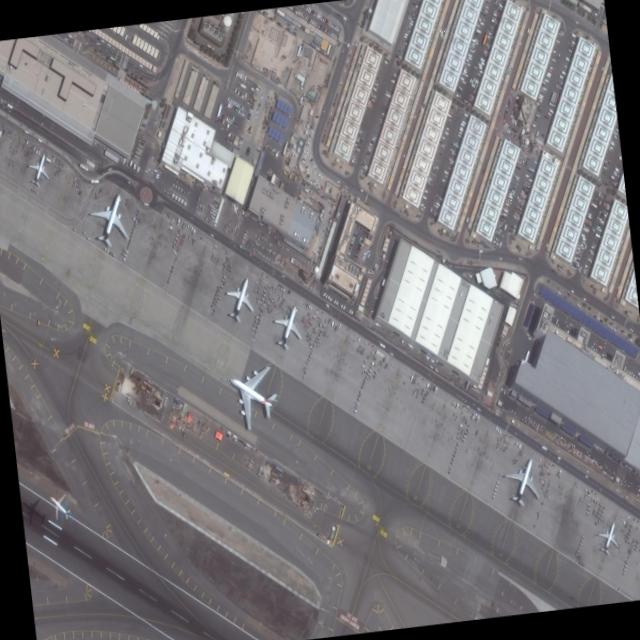large-vehicle: (548, 90, 555, 107), (552, 92, 559, 108), (550, 91, 557, 107), (281, 141, 288, 157), (216, 102, 223, 118), (482, 30, 488, 46), (79, 163, 88, 172), (540, 445, 548, 451), (239, 83, 246, 89), (461, 71, 468, 77), (384, 92, 391, 98), (475, 28, 481, 34), (595, 233, 601, 239), (555, 84, 561, 90), (7, 103, 13, 109), (90, 179, 99, 183), (407, 343, 413, 349), (379, 342, 385, 348), (374, 322, 381, 327), (533, 292, 538, 299), (225, 122, 229, 130), (243, 74, 247, 82), (599, 219, 604, 225), (582, 227, 588, 232), (565, 56, 570, 62), (448, 157, 454, 162), (168, 225, 174, 230), (385, 90, 391, 95), (110, 56, 115, 61), (68, 33, 73, 38), (586, 214, 591, 219), (545, 73, 550, 78), (538, 93, 543, 98), (444, 170, 449, 175), (507, 194, 512, 199), (581, 236, 586, 241), (610, 314, 615, 319), (571, 33, 576, 38), (559, 74, 564, 79), (422, 194, 427, 199), (457, 133, 462, 138), (556, 455, 561, 460), (425, 355, 430, 360), (235, 71, 239, 77), (503, 224, 507, 230), (348, 308, 352, 314), (227, 100, 230, 107), (239, 72, 242, 79), (244, 92, 247, 99), (527, 27, 530, 34), (498, 241, 501, 248), (192, 228, 195, 235), (177, 218, 180, 225), (440, 30, 443, 37), (138, 63, 143, 67), (227, 132, 231, 137), (547, 68, 552, 72), (544, 78, 548, 83), (503, 209, 508, 213), (541, 86, 546, 90), (580, 233, 585, 237), (555, 39, 560, 43), (567, 48, 572, 52), (571, 40, 576, 44), (549, 109, 554, 113), (436, 201, 440, 206), (459, 127, 463, 132), (460, 123, 465, 127), (461, 120, 466, 124), (464, 113, 469, 117), (444, 130, 448, 135), (372, 86, 376, 91), (390, 79, 395, 83), (478, 65, 483, 69), (478, 62, 482, 67), (467, 53, 472, 57), (469, 48, 473, 53), (471, 41, 476, 45), (488, 31, 492, 36), (493, 12, 497, 17), (461, 79, 465, 84), (458, 86, 463, 90), (479, 21, 484, 25), (342, 305, 346, 310), (304, 188, 309, 192), (300, 159, 305, 163), (237, 71, 240, 77), (336, 212, 339, 218), (124, 34, 127, 40), (307, 135, 310, 141), (250, 87, 254, 91), (257, 85, 261, 89), (549, 65, 553, 69), (547, 71, 551, 75), (505, 202, 509, 206), (502, 212, 506, 216), (629, 328, 633, 332), (508, 65, 512, 69), (551, 58, 555, 62), (558, 80, 562, 84), (562, 71, 566, 75), (359, 188, 363, 192), (420, 207, 424, 211), (424, 189, 428, 193), (445, 127, 449, 131), (372, 135, 376, 139), (393, 73, 397, 77), (343, 16, 347, 20), (460, 76, 464, 80), (481, 61, 485, 65), (480, 58, 484, 62), (466, 62, 470, 66), (466, 58, 470, 62), (468, 56, 472, 60), (474, 38, 478, 42), (471, 38, 475, 42), (479, 70, 483, 74), (476, 407, 480, 411), (495, 412, 499, 416), (322, 292, 326, 296), (305, 168, 309, 172), (429, 365, 433, 369), (342, 211, 345, 216), (466, 217, 469, 222), (346, 42, 349, 47), (333, 299, 336, 304), (306, 139, 309, 144), (435, 368, 438, 373), (538, 96, 542, 99), (538, 99, 542, 102), (571, 289, 574, 293), (548, 112, 551, 116), (582, 297, 586, 300), (492, 240, 496, 243), (93, 140, 96, 144), (441, 136, 445, 139), (372, 137, 375, 141), (415, 4, 418, 8), (409, 22, 413, 25), (487, 35, 490, 39), (455, 94, 459, 97), (329, 297, 332, 301), (327, 295, 330, 299), (325, 294, 328, 298), (431, 359, 434, 363), (227, 96, 229, 101), (439, 29, 441, 34), (441, 34, 443, 39), (477, 250, 482, 252), (256, 87, 259, 90), (357, 148, 360, 151), (410, 20, 413, 23), (519, 41, 521, 45), (404, 33, 408, 35)
plane: (218, 344, 285, 440), (82, 181, 141, 257), (498, 444, 550, 515), (267, 296, 310, 356), (219, 269, 262, 328), (43, 483, 76, 528), (23, 146, 55, 190), (594, 515, 624, 558), (231, 202, 239, 214)
small-vehicle: (209, 232, 214, 237), (624, 493, 628, 499), (601, 193, 604, 200), (535, 101, 539, 106), (587, 212, 592, 216), (501, 333, 505, 338), (516, 422, 520, 427), (349, 161, 353, 166), (311, 19, 314, 25), (374, 82, 378, 86), (367, 145, 371, 149), (350, 239, 354, 243), (352, 233, 356, 237), (312, 165, 316, 169), (269, 16, 273, 20), (107, 43, 111, 47), (126, 73, 130, 77), (95, 57, 99, 61), (508, 198, 512, 202), (560, 31, 564, 35), (575, 20, 579, 24), (517, 164, 521, 168), (531, 168, 535, 172), (533, 160, 537, 164), (356, 196, 360, 200), (589, 248, 593, 252), (582, 240, 586, 244), (579, 248, 583, 252), (576, 246, 580, 250), (575, 260, 579, 264), (576, 263, 580, 267), (613, 172, 617, 176), (613, 131, 617, 135), (609, 325, 613, 329), (577, 303, 581, 307), (195, 68, 199, 72), (447, 118, 451, 122), (450, 148, 454, 152), (435, 165, 439, 169), (378, 117, 382, 121), (528, 337, 532, 341), (494, 6, 498, 10), (281, 274, 285, 278), (339, 79, 342, 84), (343, 67, 346, 72), (346, 58, 349, 63), (355, 41, 358, 46), (353, 40, 356, 45), (304, 5, 307, 10), (307, 6, 310, 11), (312, 121, 315, 126), (295, 9, 298, 14), (300, 12, 303, 17), (303, 14, 306, 19), (306, 16, 309, 21), (307, 17, 310, 22), (309, 18, 312, 23), (314, 21, 317, 26), (324, 28, 327, 33), (297, 10, 300, 15), (316, 13, 319, 18), (319, 14, 322, 19), (323, 17, 326, 22), (328, 20, 331, 25), (331, 23, 334, 28), (327, 30, 330, 35), (239, 92, 242, 97), (239, 110, 242, 115), (241, 111, 244, 116), (229, 119, 232, 124), (235, 123, 238, 128), (333, 34, 336, 39), (504, 111, 507, 116), (506, 104, 509, 109), (504, 122, 507, 127), (515, 181, 518, 186), (584, 243, 587, 248), (578, 252, 581, 257), (592, 227, 595, 232), (598, 192, 601, 197), (545, 243, 548, 248), (173, 250, 176, 255), (33, 145, 36, 150), (443, 27, 446, 32), (347, 54, 350, 58), (337, 13, 340, 17), (310, 9, 313, 13), (335, 93, 338, 97), (310, 125, 313, 129), (325, 125, 328, 129), (329, 112, 332, 116), (332, 102, 335, 106), (313, 11, 316, 15), (291, 6, 294, 10), (329, 22, 332, 26), (332, 24, 335, 28), (335, 26, 338, 30), (348, 247, 352, 250), (373, 266, 376, 270), (371, 269, 374, 273), (367, 253, 370, 257), (369, 310, 373, 313), (374, 265, 377, 269), (367, 150, 371, 153), (347, 251, 350, 255), (357, 243, 361, 246), (367, 148, 371, 151), (306, 173, 309, 177), (307, 174, 310, 178), (308, 176, 311, 180), (302, 155, 305, 159), (303, 153, 306, 157), (363, 159, 366, 163), (352, 157, 355, 161), (360, 169, 363, 173), (364, 166, 367, 170), (364, 164, 367, 168), (358, 145, 361, 149), (355, 143, 358, 147), (356, 137, 360, 140), (360, 136, 363, 140), (358, 130, 362, 133), (353, 155, 356, 159), (206, 76, 210, 79), (273, 148, 276, 152), (247, 128, 250, 132), (141, 92, 144, 96), (145, 90, 149, 93), (290, 25, 294, 28), (293, 31, 296, 35), (289, 29, 292, 33), (283, 24, 286, 28), (278, 21, 281, 25), (138, 80, 141, 84), (111, 45, 114, 49), (99, 50, 103, 53), (84, 42, 88, 45), (116, 70, 119, 74), (126, 76, 129, 80), (104, 62, 107, 66), (99, 60, 103, 63), (91, 55, 95, 58), (512, 129, 516, 132), (509, 126, 512, 130), (507, 125, 510, 129), (506, 124, 509, 128), (502, 116, 505, 120), (505, 107, 508, 111), (507, 103, 510, 107), (507, 100, 510, 104), (508, 97, 511, 101), (511, 127, 514, 131), (513, 103, 517, 106), (509, 131, 512, 135), (542, 80, 545, 84), (516, 195, 519, 199), (512, 228, 516, 231), (511, 231, 515, 234), (511, 191, 514, 195), (524, 180, 527, 184), (511, 189, 515, 192), (509, 185, 512, 189), (517, 160, 521, 163), (519, 158, 522, 162), (518, 156, 522, 159), (528, 166, 531, 170), (597, 225, 600, 229), (577, 244, 581, 247), (575, 251, 579, 254), (577, 256, 580, 260), (583, 268, 587, 271), (601, 66, 604, 70), (613, 170, 616, 174), (602, 171, 605, 175), (603, 166, 607, 169), (610, 140, 614, 143), (587, 268, 590, 272), (578, 268, 581, 272), (613, 328, 616, 332), (599, 319, 603, 322), (606, 323, 609, 327), (593, 314, 596, 318), (526, 333, 530, 336), (257, 146, 260, 150), (408, 24, 411, 28), (449, 110, 453, 113), (435, 158, 438, 162), (408, 16, 412, 19), (411, 6, 414, 10), (558, 290, 561, 294), (518, 257, 522, 260), (498, 257, 502, 260), (507, 70, 510, 74), (477, 23, 480, 27), (481, 18, 485, 21), (485, 2, 489, 5), (481, 7, 485, 10), (433, 173, 436, 177), (429, 171, 433, 174), (349, 49, 351, 54), (352, 40, 354, 45), (303, 4, 305, 9), (331, 107, 333, 112), (309, 8, 311, 13), (312, 9, 314, 14), (299, 11, 301, 16), (302, 13, 304, 18), (305, 15, 307, 20), (323, 27, 325, 32), (294, 8, 296, 13), (318, 13, 320, 18), (321, 16, 323, 21), (325, 18, 327, 23), (337, 27, 339, 32), (372, 267, 374, 272), (310, 178, 312, 183), (315, 179, 317, 184), (326, 29, 328, 34), (329, 31, 331, 36), (226, 116, 228, 121), (238, 109, 240, 114), (224, 115, 226, 120), (227, 118, 229, 123), (264, 11, 266, 16), (222, 119, 224, 124), (237, 90, 239, 95), (242, 93, 244, 98), (232, 99, 234, 104), (332, 33, 334, 38), (74, 176, 76, 181), (38, 150, 40, 155), (403, 152, 405, 157), (580, 265, 582, 270), (414, 113, 416, 118), (339, 323, 341, 328), (309, 128, 312, 131), (299, 131, 302, 134), (305, 143, 308, 146), (375, 263, 378, 266), (365, 251, 368, 254), (390, 352, 393, 355), (371, 140, 374, 143), (360, 237, 363, 240), (359, 241, 362, 244), (356, 249, 359, 252), (349, 245, 352, 248), (350, 241, 353, 244), (351, 237, 354, 240), (352, 235, 355, 238), (353, 231, 356, 234), (354, 230, 357, 233), (357, 247, 360, 250), (357, 245, 360, 248), (365, 154, 368, 157), (304, 164, 307, 167), (311, 164, 314, 167), (337, 180, 340, 183), (361, 163, 364, 166), (361, 165, 364, 168), (355, 141, 358, 144), (359, 141, 362, 144), (359, 139, 362, 142), (356, 139, 359, 142), (246, 119, 249, 122), (247, 117, 250, 120), (247, 114, 250, 117), (248, 111, 251, 114), (249, 109, 252, 112), (250, 106, 253, 109), (251, 104, 254, 107), (251, 102, 254, 105), (252, 99, 255, 102), (213, 81, 216, 84), (239, 141, 242, 144), (240, 139, 243, 142), (151, 156, 154, 159), (147, 168, 150, 171), (145, 170, 148, 173), (149, 97, 152, 100), (145, 95, 148, 98), (133, 86, 136, 89), (138, 85, 141, 88), (134, 82, 137, 85), (294, 27, 297, 30), (287, 22, 290, 25), (286, 27, 289, 30), (97, 37, 100, 40), (130, 80, 133, 83), (145, 86, 148, 89), (141, 83, 144, 86), (101, 39, 104, 42), (96, 42, 99, 45), (134, 78, 137, 81), (130, 76, 133, 79), (116, 66, 119, 69), (113, 64, 116, 67), (112, 68, 115, 71), (69, 40, 72, 43), (108, 66, 111, 69), (64, 37, 67, 40), (348, 249, 351, 252), (506, 129, 509, 132), (514, 130, 517, 133), (536, 114, 539, 117), (511, 133, 514, 136), (507, 130, 510, 133), (534, 118, 537, 121), (499, 229, 502, 232), (513, 224, 516, 227), (516, 175, 519, 178), (564, 65, 567, 68), (514, 184, 517, 187), (581, 246, 584, 249), (573, 258, 576, 261), (573, 262, 576, 265), (573, 264, 576, 267), (603, 163, 606, 166), (604, 160, 607, 163), (583, 271, 586, 274), (573, 267, 576, 270), (570, 266, 573, 269), (629, 338, 632, 341), (625, 336, 628, 339), (596, 317, 599, 320), (589, 313, 592, 316), (192, 66, 195, 69), (399, 55, 402, 58), (443, 143, 446, 146), (441, 144, 444, 147), (445, 174, 448, 177), (423, 205, 426, 208), (421, 202, 424, 205), (381, 112, 384, 115), (316, 507, 319, 510), (564, 295, 567, 298), (508, 68, 511, 71), (485, 5, 488, 8), (338, 84, 340, 88), (342, 72, 344, 76), (306, 6, 308, 10), (337, 89, 339, 93), (321, 139, 323, 143), (323, 134, 325, 138), (324, 129, 326, 133), (334, 98, 336, 102), (313, 21, 315, 25), (316, 23, 318, 27), (318, 24, 320, 28), (322, 17, 324, 21), (327, 20, 329, 24), (334, 25, 336, 29), (309, 134, 311, 138), (369, 269, 371, 273), (366, 250, 370, 252), (309, 154, 311, 158), (313, 170, 315, 174), (314, 167, 316, 171), (243, 112, 245, 116), (236, 90, 238, 94), (272, 147, 274, 151), (234, 123, 236, 127), (231, 121, 233, 125), (232, 116, 234, 120), (330, 32, 332, 36), (258, 103, 260, 107), (261, 94, 263, 98), (256, 109, 258, 113), (255, 114, 257, 118), (241, 106, 243, 110), (239, 105, 241, 109), (235, 107, 237, 111), (232, 105, 234, 109), (230, 104, 232, 108), (238, 104, 240, 108), (236, 103, 238, 107), (235, 102, 237, 106), (233, 101, 235, 105), (230, 99, 232, 103), (189, 224, 191, 228), (181, 220, 183, 224), (335, 36, 337, 40), (505, 109, 507, 113), (509, 117, 511, 121), (522, 158, 524, 162), (598, 177, 600, 181), (626, 516, 630, 518), (52, 157, 54, 161), (419, 204, 423, 206), (430, 207, 432, 211), (495, 0, 497, 4), (370, 246, 372, 250), (376, 76, 378, 79), (315, 116, 318, 118), (331, 119, 333, 122), (306, 150, 308, 153), (362, 257, 365, 259), (362, 255, 365, 257), (355, 251, 358, 253), (349, 243, 352, 245), (307, 171, 309, 174), (305, 165, 307, 168), (248, 112, 250, 115), (242, 107, 244, 110), (237, 108, 239, 111), (229, 104, 231, 107), (187, 224, 189, 227), (138, 89, 141, 91), (130, 83, 132, 86), (502, 122, 504, 125), (513, 106, 516, 108), (512, 108, 515, 110), (511, 113, 514, 115), (510, 115, 513, 117), (523, 184, 525, 187), (528, 183, 530, 186), (414, 11, 416, 14), (528, 0, 530, 3), (485, 10, 488, 12), (368, 268, 369, 273), (314, 508, 315, 513), (327, 121, 328, 125), (362, 260, 364, 262), (316, 184, 317, 188), (314, 180, 315, 184), (312, 179, 313, 183), (266, 13, 267, 17), (245, 100, 246, 104), (234, 106, 235, 110), (512, 119, 513, 123), (195, 71, 197, 73), (233, 122, 234, 125), (511, 111, 514, 112)
